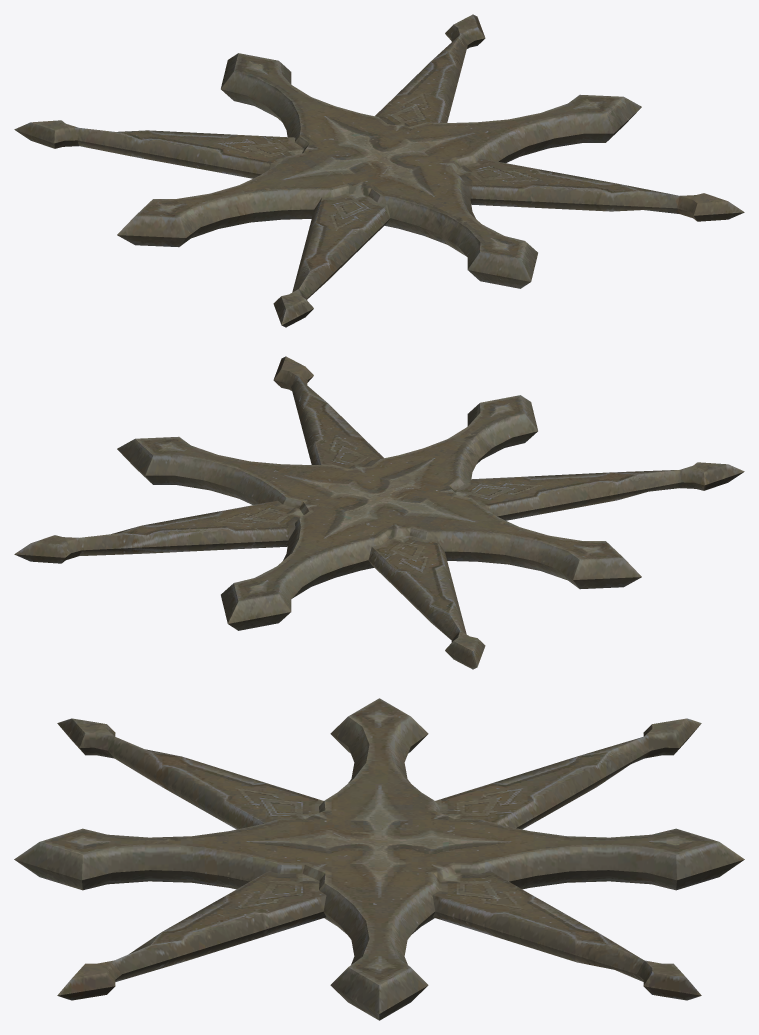
The model's file is bg_rad_kamen_deco03_sm_hhk.obj.
3 renders of one model, top to bottom at view 1: azimuth 30°, elevation 25°; view 2: azimuth 150°, elevation 25°; view 3: azimuth 270°, elevation 25°, orthographic. The views are drawn at different scales.
Parts seen in each view (by area): view 1: bg_rad_kamen_deco03_sm_hhk_0; view 2: bg_rad_kamen_deco03_sm_hhk_0; view 3: bg_rad_kamen_deco03_sm_hhk_0.
Part boxes in pixels (left/top/right/bottom): bg_rad_kamen_deco03_sm_hhk_0: left=14, top=14, right=744, bottom=327; bg_rad_kamen_deco03_sm_hhk_0: left=14, top=356, right=744, bottom=669; bg_rad_kamen_deco03_sm_hhk_0: left=14, top=698, right=744, bottom=1020.
Bounding box in the file's own units: 3 × 0.16 × 3.
1 material, 1 textured.
